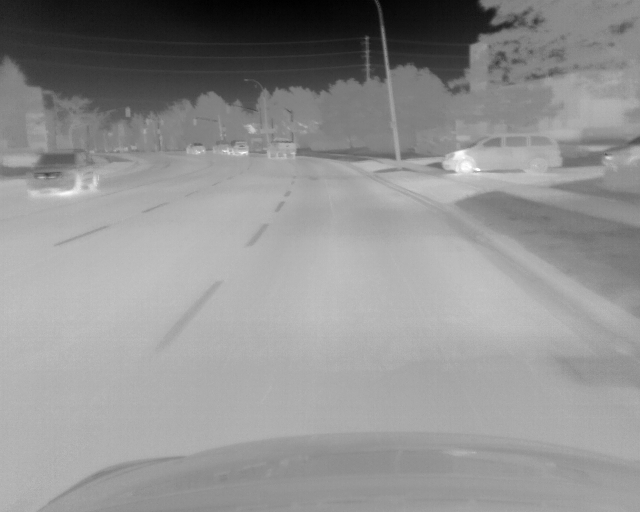car: (440, 130, 562, 172), (24, 150, 98, 196), (601, 133, 640, 168), (267, 136, 297, 158), (213, 140, 234, 155), (185, 142, 205, 155), (233, 140, 249, 155)
